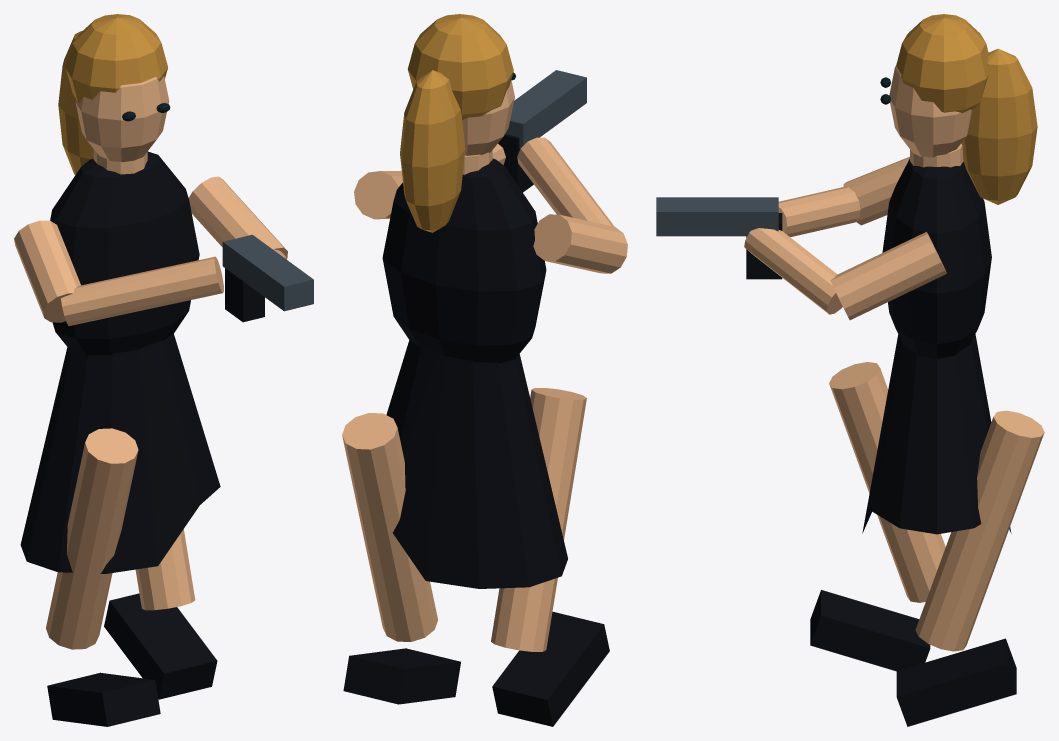
The model's file is aya_walk_a.obj.
3 renders of one model, left to right at view 1: azimuth 30°, elevation 25°; view 2: azimuth 150°, elevation 25°; view 3: azimuth 270°, elevation 25°, orthographic. The views are drawn at different scales.
Parts seen in each view (by area): view 1: Dress_skirt.001, Dress_bodice.001, Leg.002, Evening_shoe.003, Hair_cap.001, Left_forearm.001, Face.001, Evening_shoe.002, Pistol_slide.001, Left_upper_arm.001, Right_upper_arm.001, Leg.003 (+3 smaller); view 2: Dress_skirt.001, Dress_bodice.001, Leg.003, Leg.002, Ponytail.001, Evening_shoe.002, Hair_cap.001, Evening_shoe.003, Left_upper_arm.001, Left_forearm.001, Pistol_slide.001, Face.001 (+2 smaller); view 3: Dress_skirt.001, Dress_bodice.001, Leg.003, Ponytail.001, Leg.002, Hair_cap.001, Evening_shoe.003, Evening_shoe.002, Right_upper_arm.001, Pistol_slide.001, Face.001, Right_forearm.001 (+4 smaller).
Part boxes in pixels (x1,y1,x2,y2): Dress_skirt.001: [20, 333, 220, 573]; Dress_bodice.001: [50, 151, 199, 356]; Leg.002: [46, 428, 138, 649]; Evening_shoe.003: [104, 593, 217, 699]; Hair_cap.001: [66, 14, 167, 103]; Left_forearm.001: [61, 256, 223, 325]; Face.001: [75, 76, 169, 162]; Evening_shoe.002: [47, 672, 160, 726]; Pistol_slide.001: [222, 234, 313, 311]; Left_upper_arm.001: [14, 220, 80, 322]; Right_upper_arm.001: [188, 176, 287, 259]; Leg.003: [135, 529, 195, 610]; Dress_skirt.001: [386, 339, 567, 588]; Dress_bodice.001: [382, 158, 546, 363]; Leg.003: [342, 413, 437, 641]; Leg.002: [491, 388, 586, 651]; Ponytail.001: [400, 70, 465, 232]; Evening_shoe.002: [492, 612, 609, 726]; Hair_cap.001: [407, 14, 513, 119]; Evening_shoe.003: [343, 648, 460, 704]; Left_upper_arm.001: [533, 214, 627, 273]; Left_forearm.001: [517, 137, 614, 226]; Pistol_slide.001: [505, 70, 586, 148]; Face.001: [462, 80, 514, 155]; Dress_skirt.001: [862, 334, 1011, 534]; Dress_bodice.001: [882, 158, 991, 358]; Leg.003: [915, 410, 1044, 651]; Ponytail.001: [961, 48, 1037, 204]; Leg.002: [829, 362, 945, 602]; Hair_cap.001: [896, 14, 988, 112]; Evening_shoe.003: [896, 638, 1016, 726]; Evening_shoe.002: [810, 590, 930, 671]; Right_upper_arm.001: [830, 231, 946, 320]; Pistol_slide.001: [656, 197, 778, 236]; Face.001: [889, 65, 971, 157]; Right_forearm.001: [744, 228, 842, 314].
Bounding box in the file's own units: 0.758 × 2.06 × 1.08.
